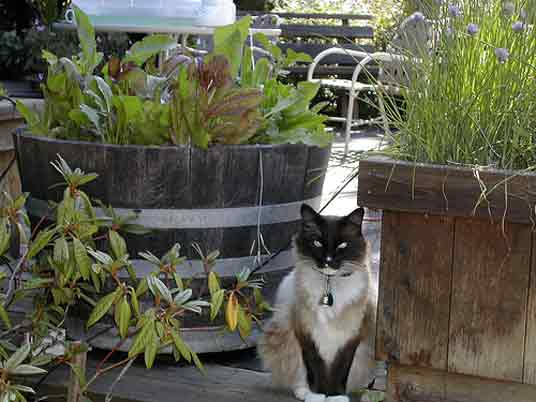cat: (256, 201, 378, 402)
